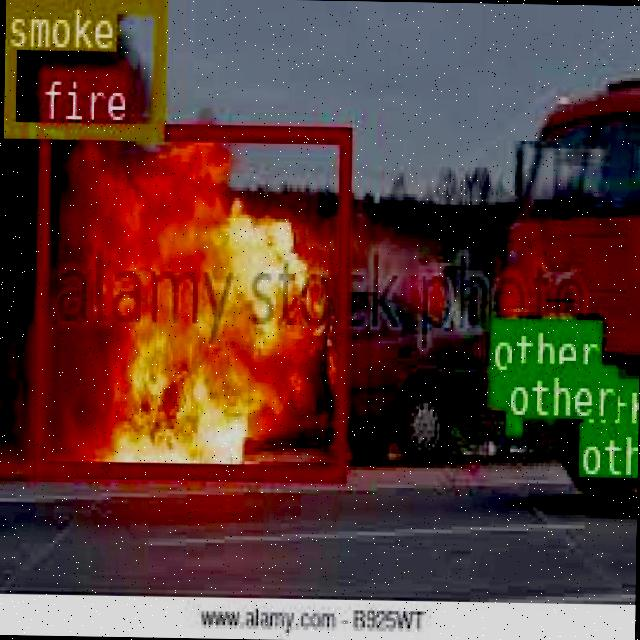fire: (31, 120, 349, 478)
smoke: (3, 0, 164, 134)
